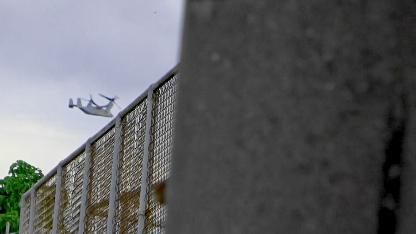Tornado: (68, 92, 122, 117)
